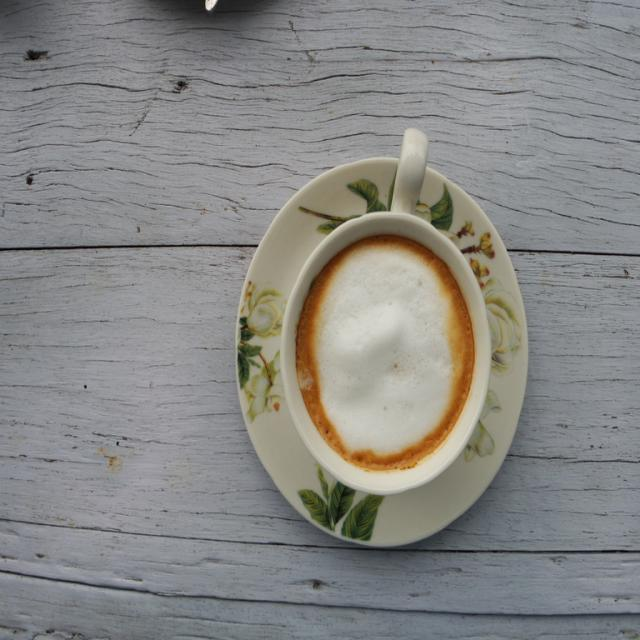Coffee: (284, 182, 483, 523)
